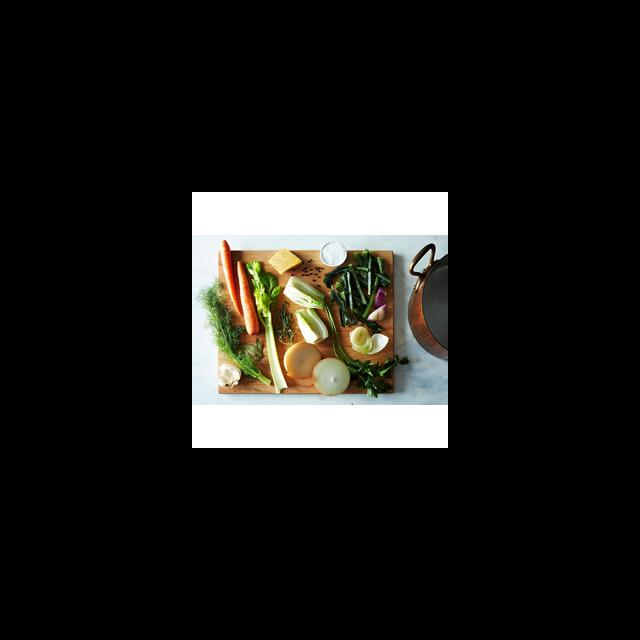food_waste: (212, 294, 274, 392), (215, 239, 261, 341), (351, 245, 400, 308), (234, 249, 265, 336), (314, 350, 351, 405), (282, 273, 330, 315), (296, 304, 332, 354), (343, 323, 384, 357), (212, 351, 240, 387), (267, 243, 291, 274), (322, 239, 341, 271)
